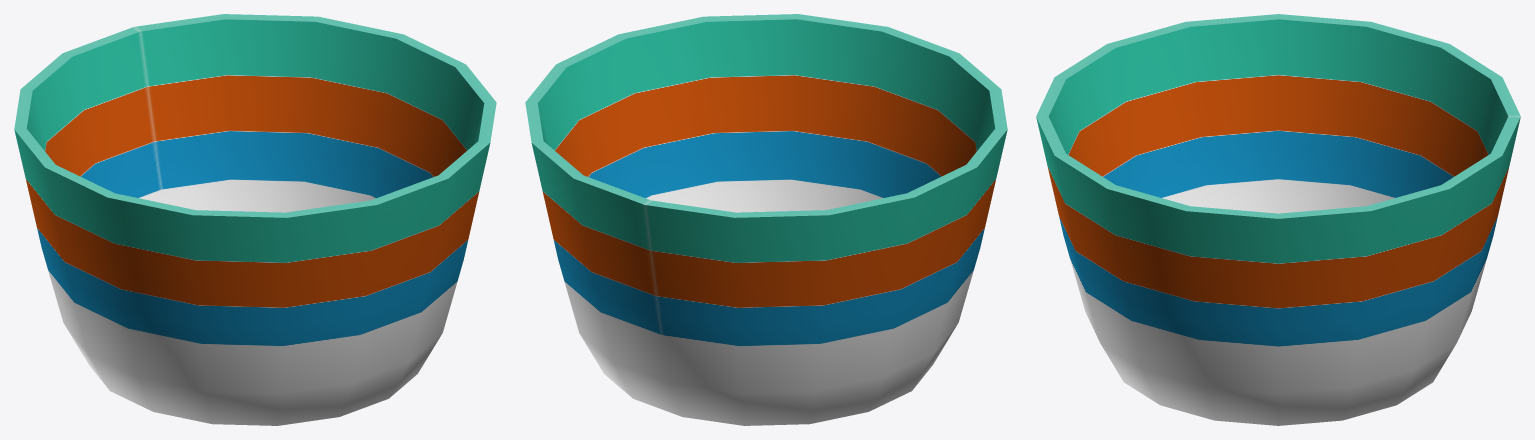
File: Vase 1.FBX
3 renders of one model, left to right at view 1: azimuth 30°, elevation 25°; view 2: azimuth 150°, elevation 25°; view 3: azimuth 270°, elevation 25°, orthographic.
Parts seen in each view (by area): view 1: vase 1; view 2: vase 1; view 3: vase 1.
Boxes of the visible parts, bbox=[...] form: vase 1: bbox=[14, 14, 496, 425]; vase 1: bbox=[525, 14, 1007, 425]; vase 1: bbox=[1036, 14, 1520, 425].
Bounding box in the file's own units: 20.11 × 10.93 × 20.11.
